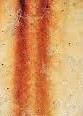Corrosion: (32, 1, 54, 116), (11, 1, 31, 116)
